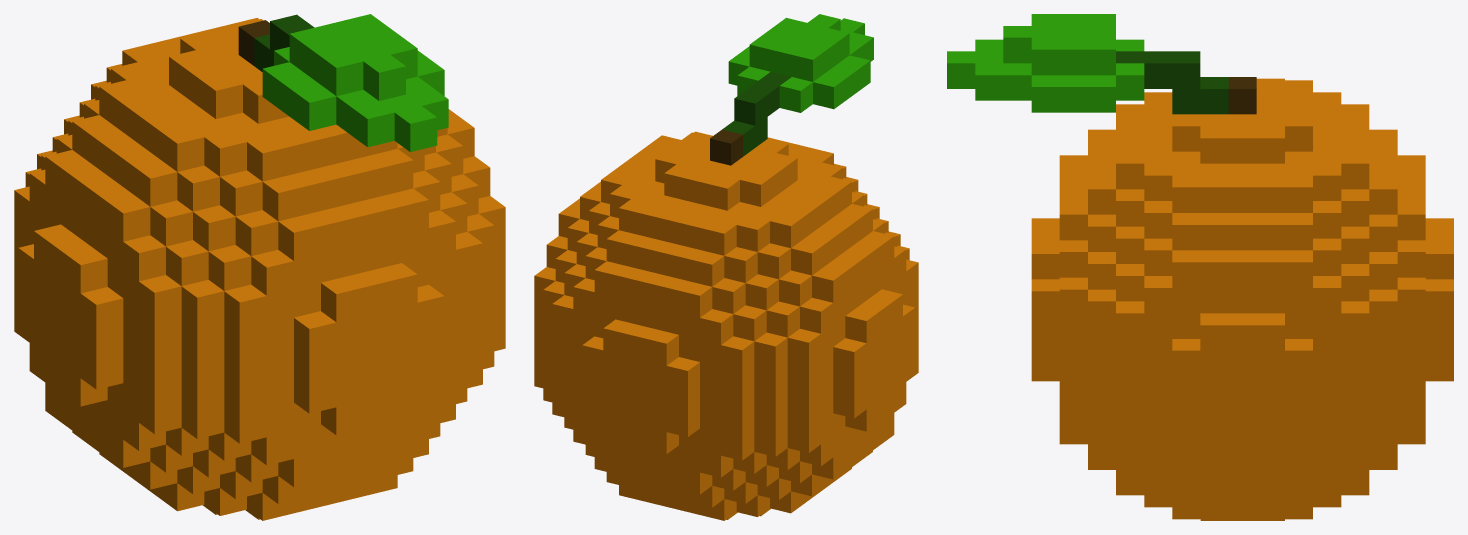
File: Orange.fbx
The picture shows the model from 3 angles, left to right: view 1: azimuth 30°, elevation 25°; view 2: azimuth 150°, elevation 25°; view 3: azimuth 270°, elevation 25°; orthographic projection. The views are drawn at different scales.
Parts seen in each view (by area): view 1: Untitled; view 2: Untitled; view 3: Untitled.
Part boxes in pixels (box(x1,y1,x2,y2)): Untitled: box(14, 14, 505, 520); Untitled: box(534, 14, 918, 520); Untitled: box(947, 14, 1453, 520).
Bounding box in the file's own units: 150 × 180 × 180.
